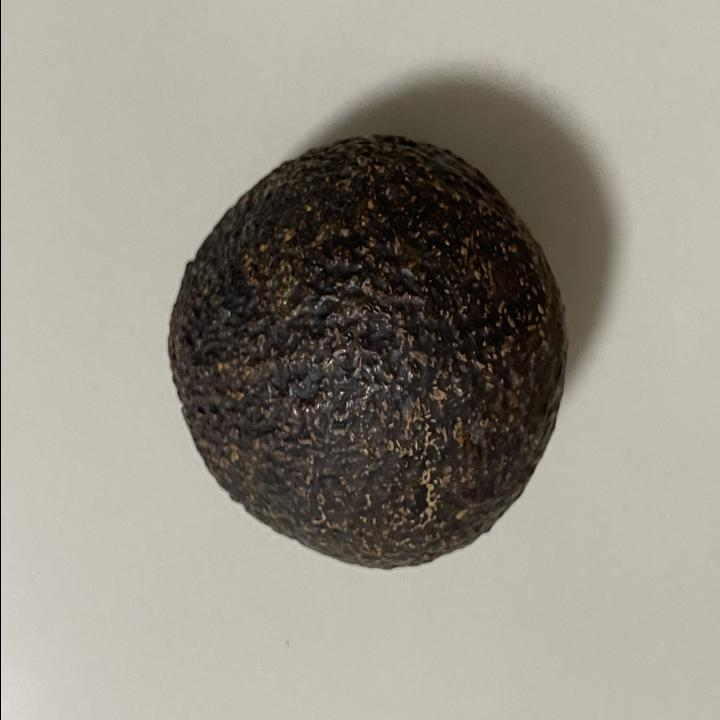Level3: (160, 124, 576, 585)
